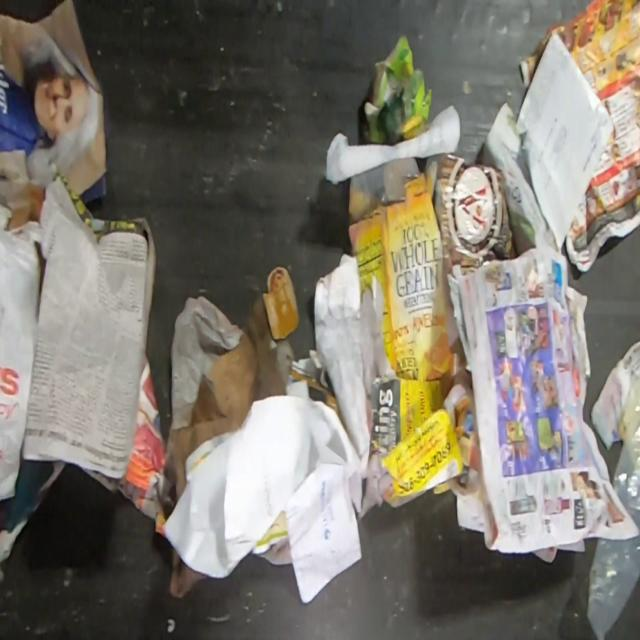cardboard: (348, 155, 460, 379), (422, 151, 518, 278), (264, 267, 300, 340)
soft_plastic: (584, 358, 640, 640)
